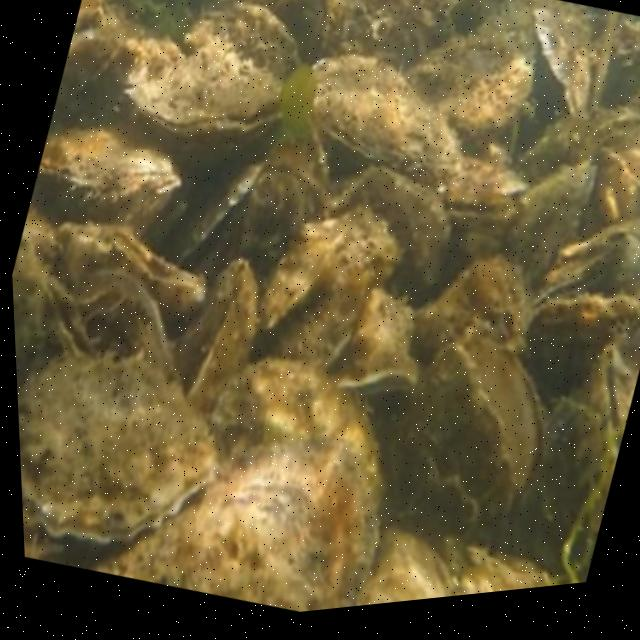Oyster-Closed: (18, 353, 213, 544), (131, 34, 282, 144), (460, 332, 547, 496), (507, 157, 598, 294), (580, 343, 637, 514), (330, 291, 416, 401), (115, 233, 205, 328), (538, 252, 620, 312), (278, 0, 344, 71), (40, 277, 94, 361), (446, 177, 513, 238)
Oyster-Indeterminate: (48, 359, 384, 612), (388, 344, 518, 555), (248, 214, 402, 373), (320, 63, 457, 180), (37, 123, 174, 232), (524, 292, 640, 414), (413, 258, 535, 364), (176, 267, 258, 412), (416, 37, 538, 130), (257, 216, 342, 336), (367, 527, 463, 605)
